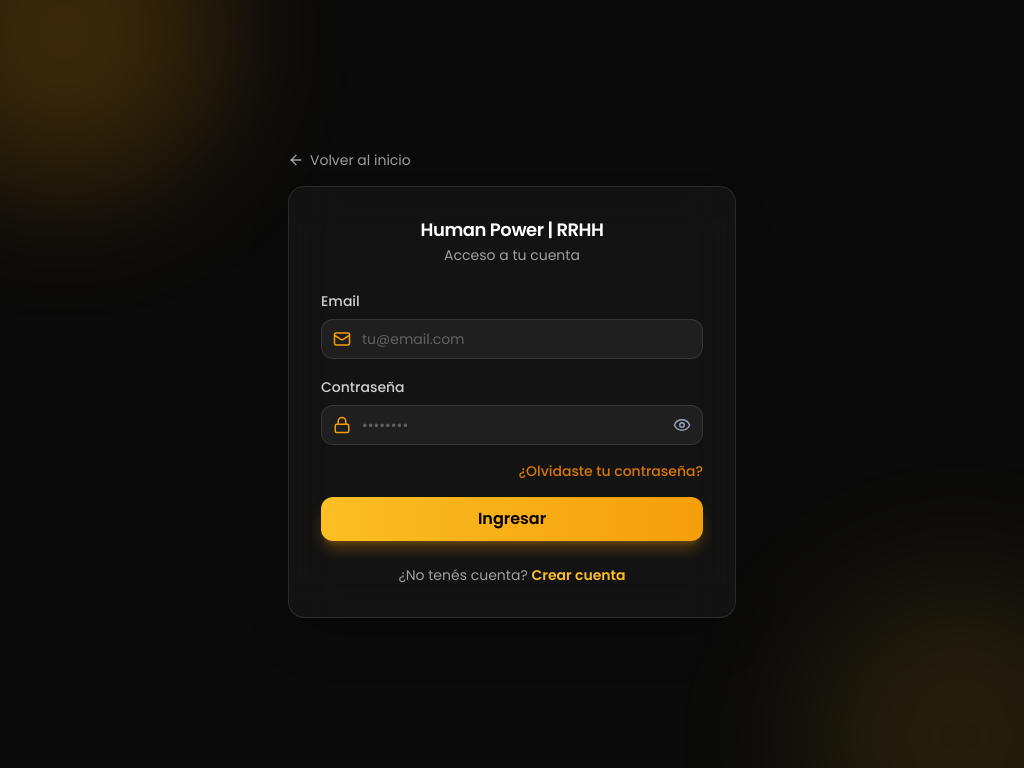
Test: AuthPage · crear cuenta desde /login › desde el registro se puede volver a ingresar
This screenshot has width=1024, height=768.
Click the button "Crear cuenta": (578, 575) [532,565,626,585]
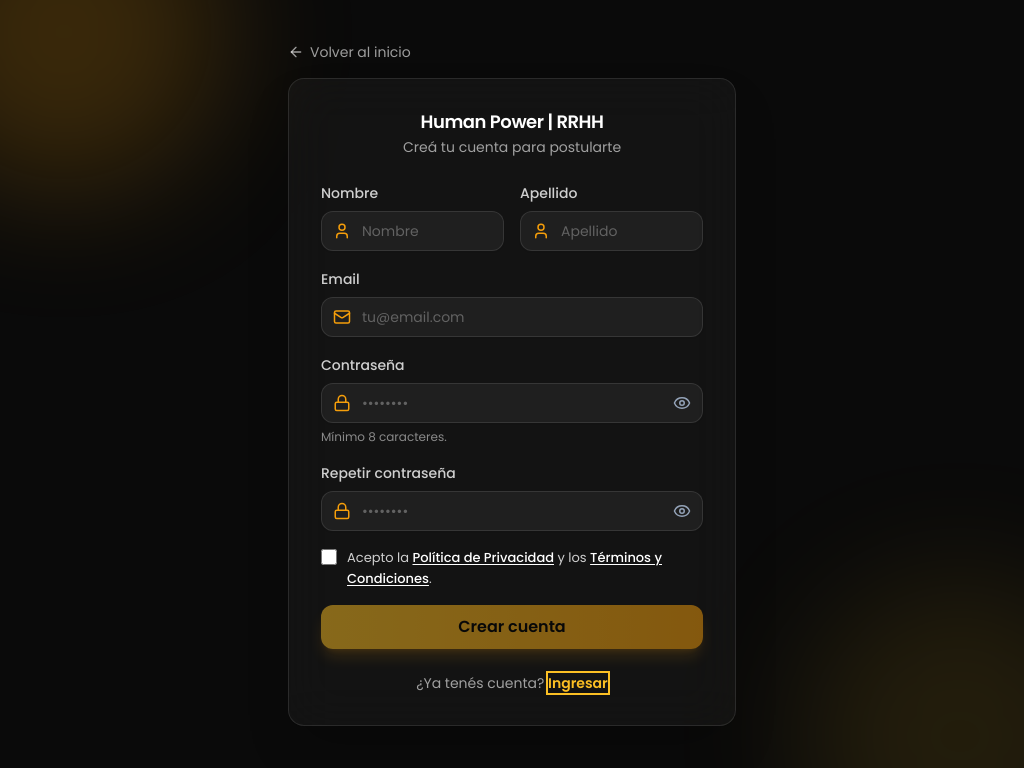
Click the button "Ingresar": (578, 683) [548,673,608,693]
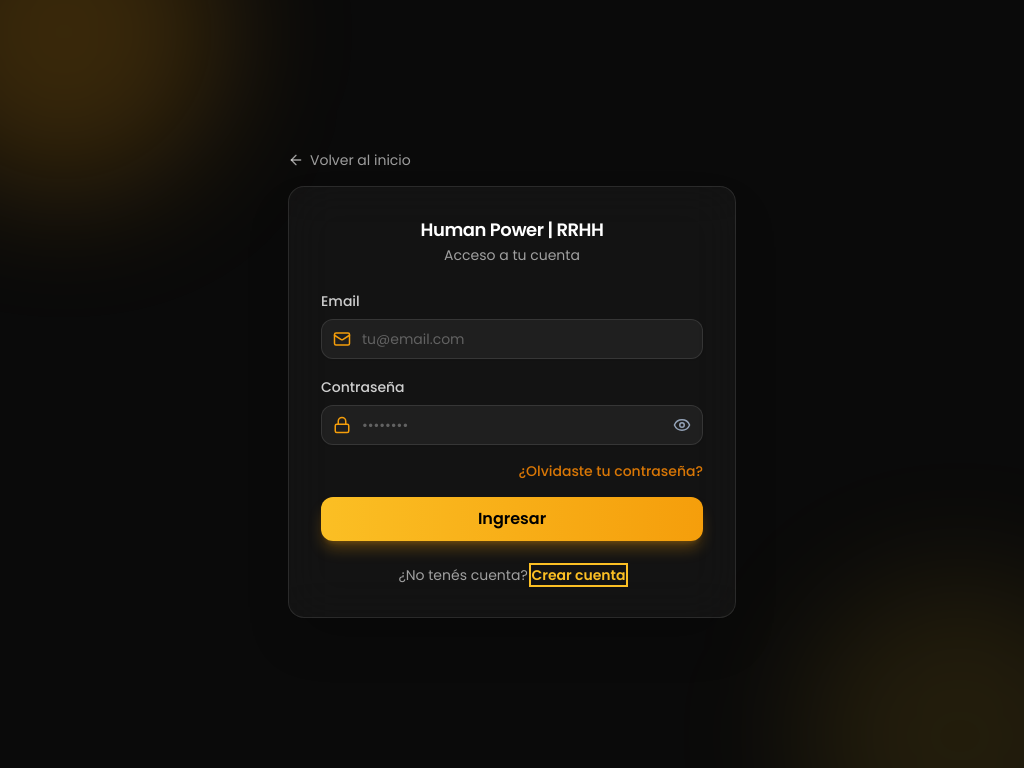
Expected: the label labelled "Nombre" is gone
Expected: the link "¿Olvidaste tu contraseña?" is shown, [518,461,703,481]
